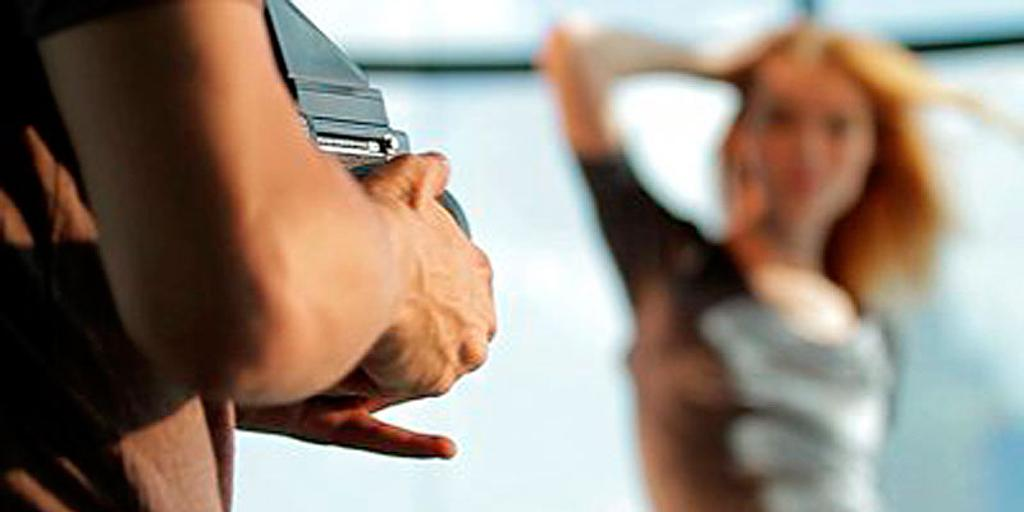face: (760, 50, 874, 230)
